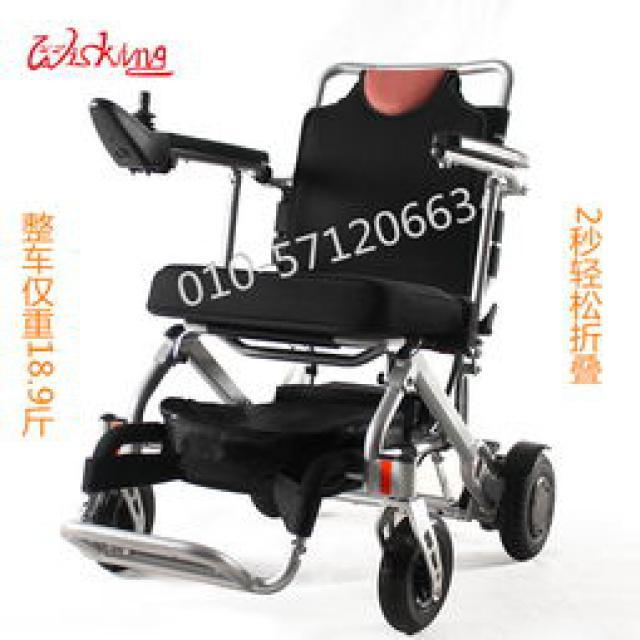wheelchair: (55, 58, 552, 638)
